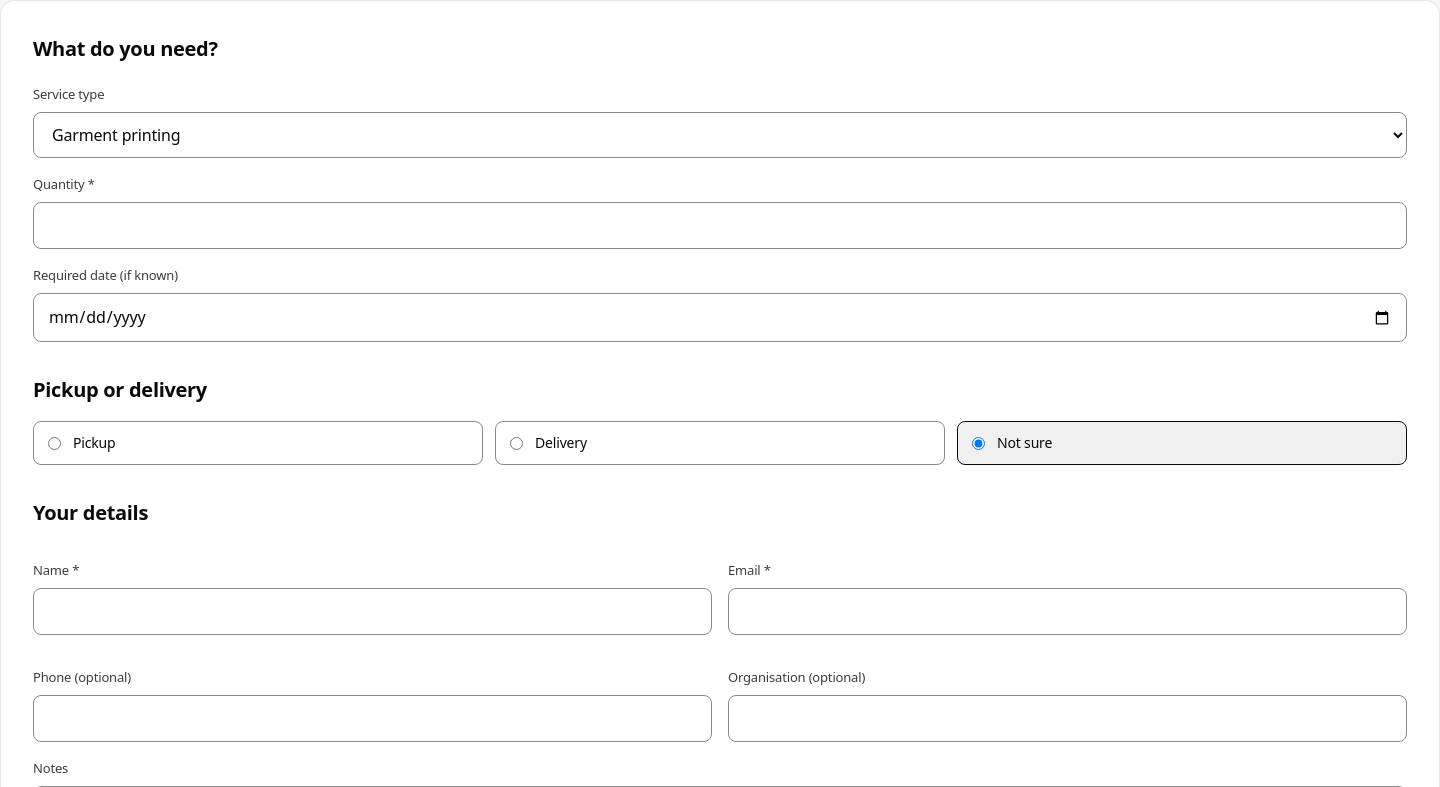
Test case: QuoteFormClient › treats an idempotent duplicate response as successful confirmation
The image size is (1440, 787).
Type "10" into the number field labelled "Quantity *" at (720, 226), box x1=33 y1=202 x2=1407 y2=249
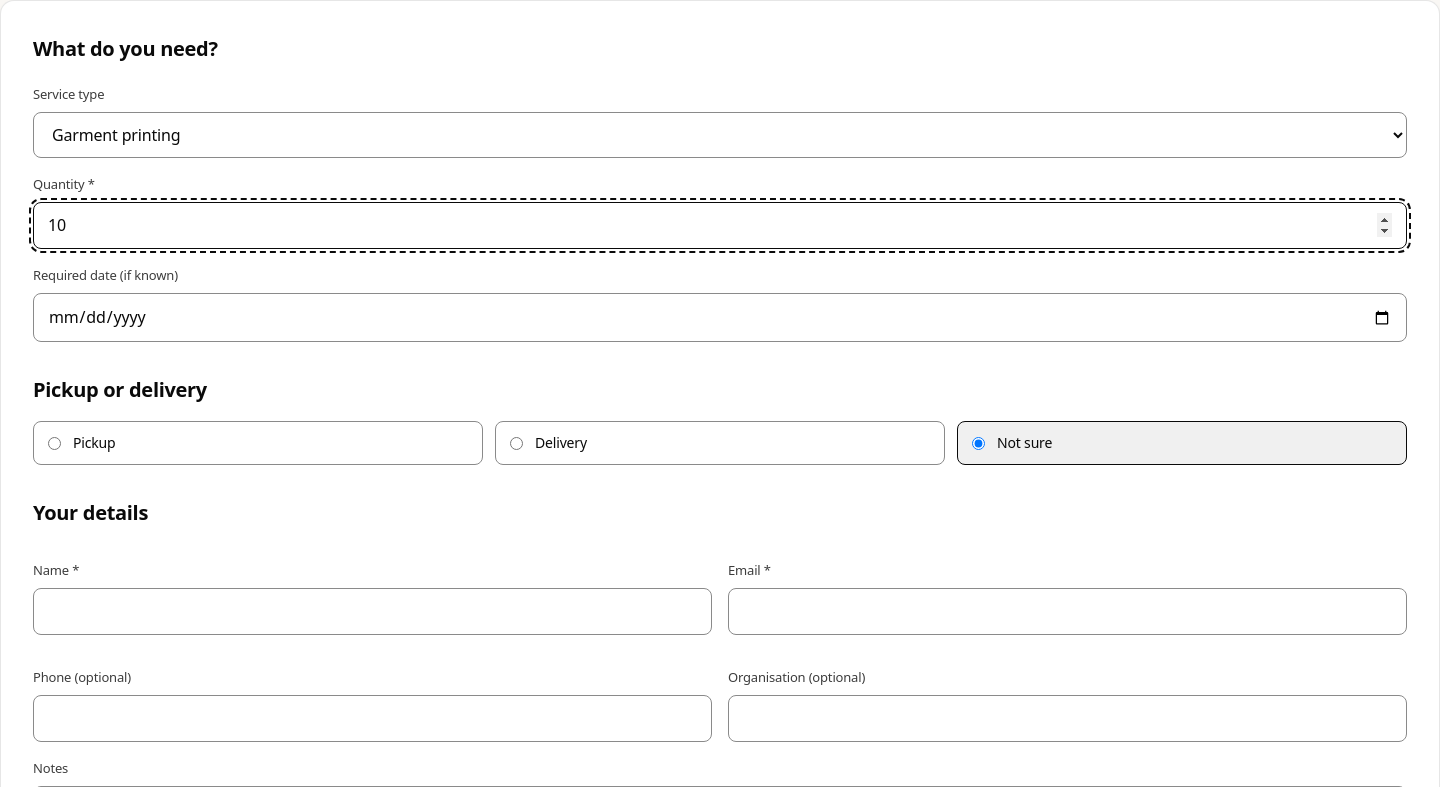
Type "Customer" into the field labelled "Name *" at (372, 612), box x1=33 y1=588 x2=712 y2=635
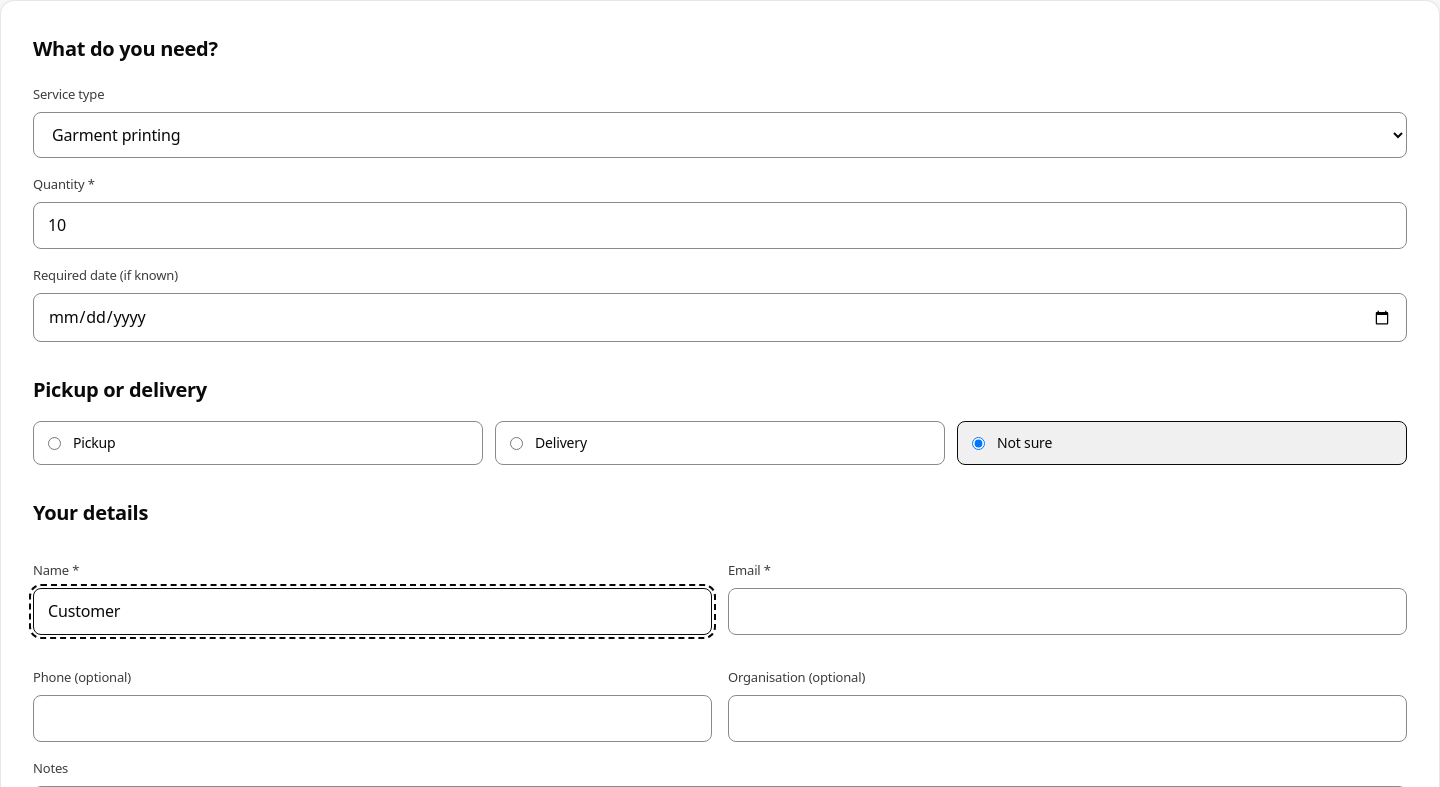
Type "customer@example.com" into the field labelled "Email *" at (1068, 612), box x1=728 y1=588 x2=1407 y2=635
(page scrolled)
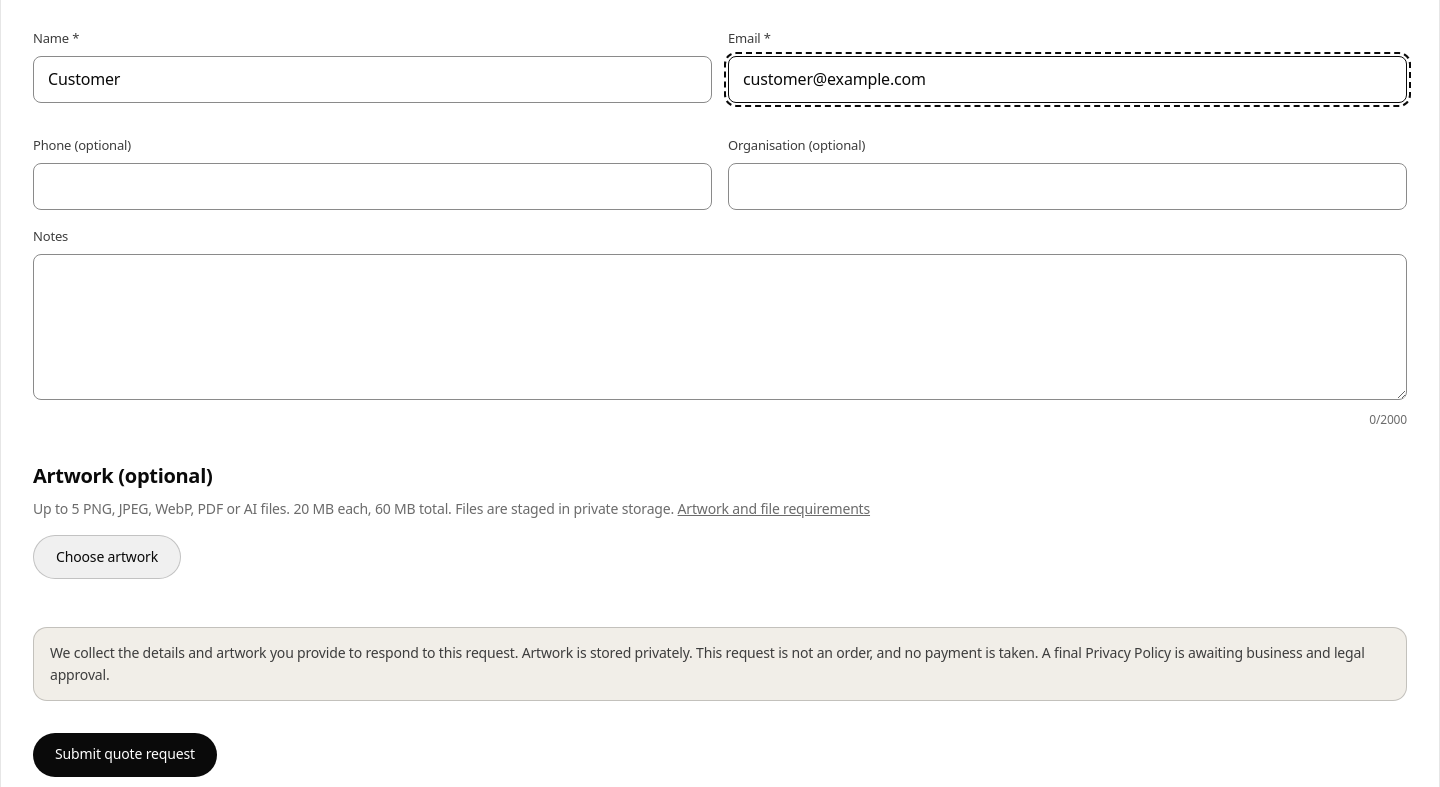
Click the button "Submit quote request" at (125, 755), box x1=33 y1=733 x2=217 y2=777
(page scrolled)
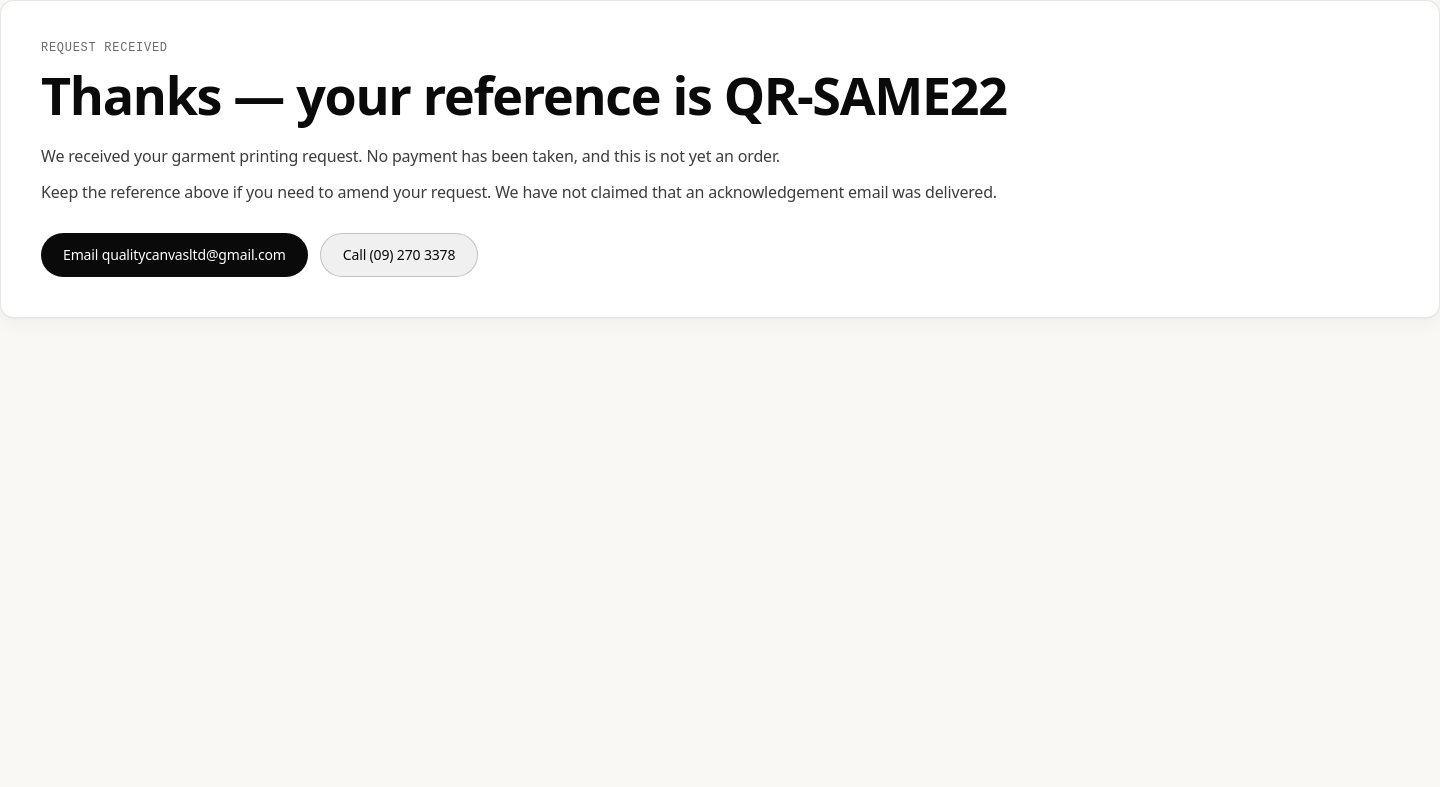
Now the heading "Thanks — your reference is QR-SAME22" is shown, box x1=41 y1=59 x2=1007 y2=130
